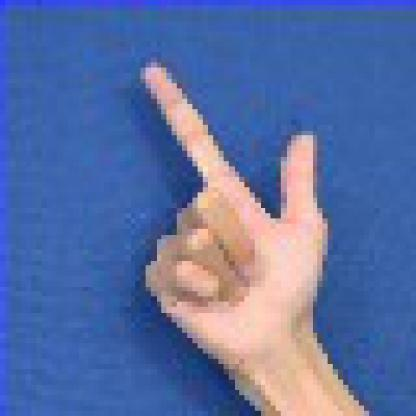seven: (120, 49, 363, 390)
